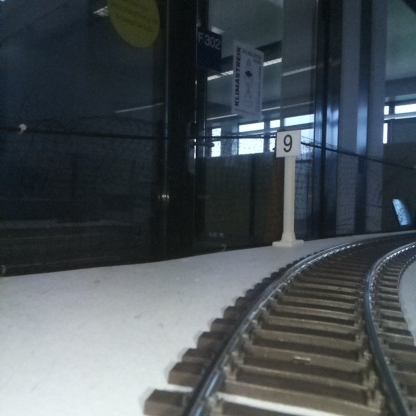white-info-9: (276, 128, 301, 245)
